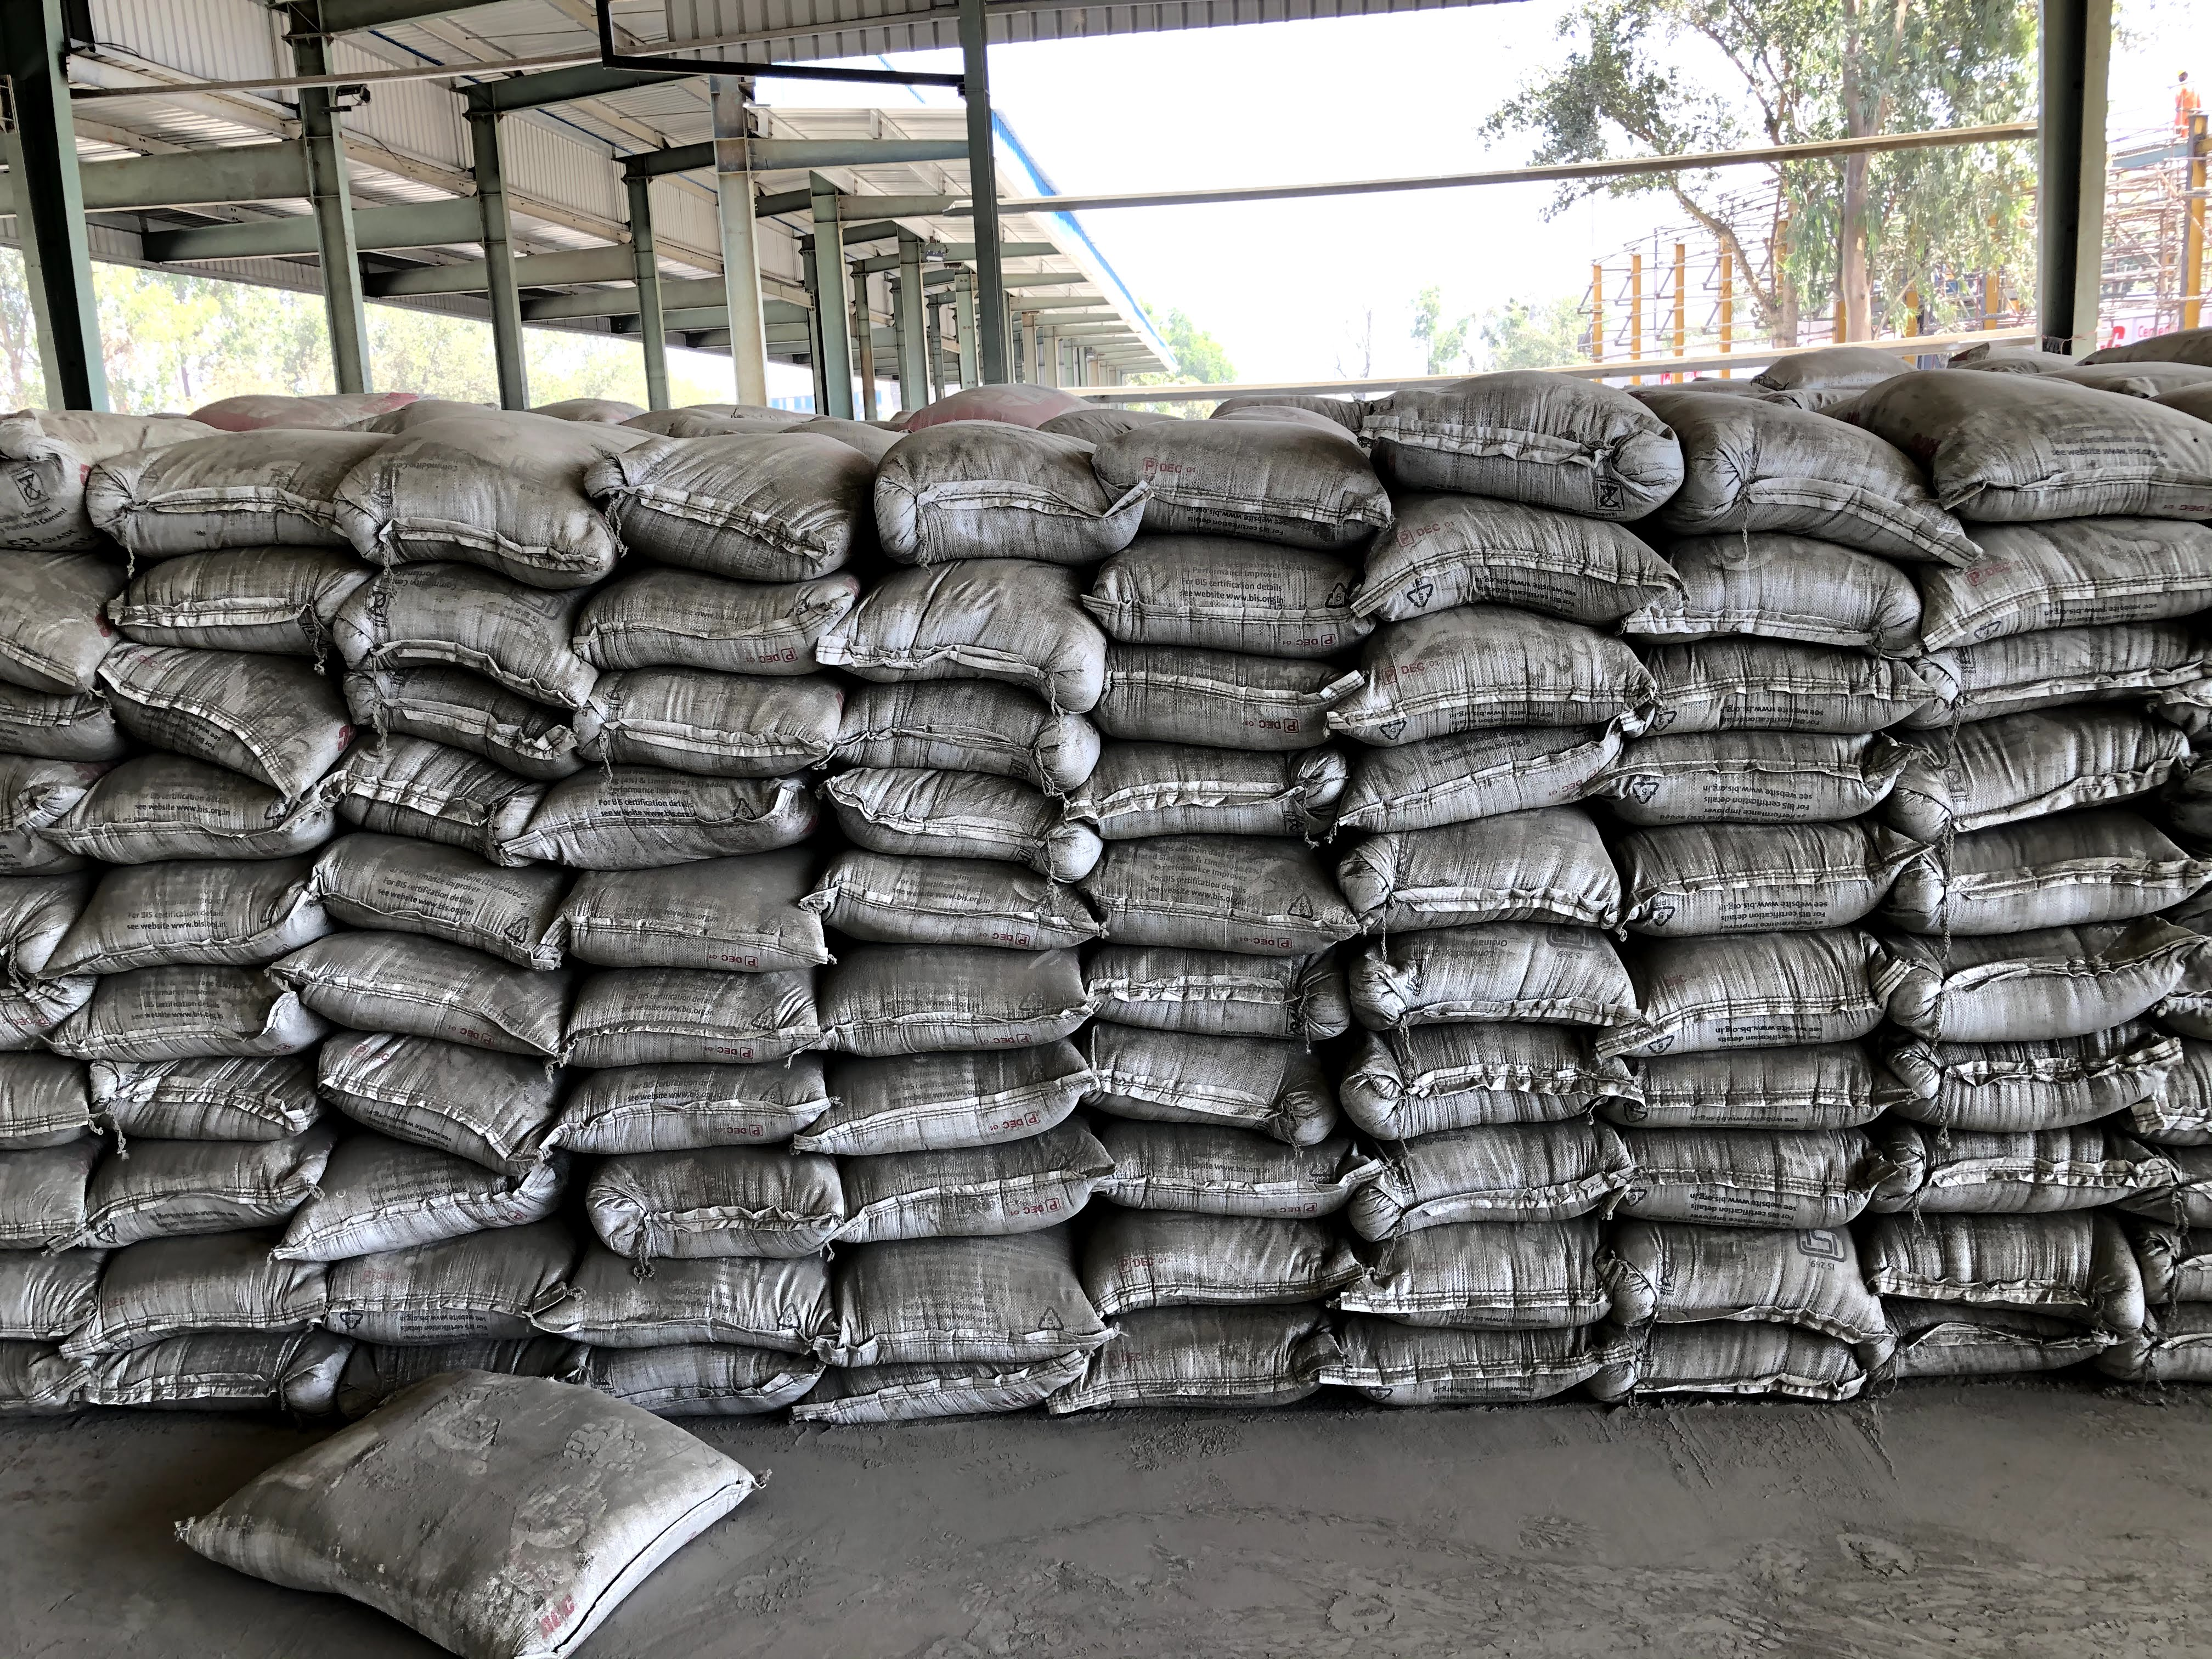cement bag: (212, 1443, 752, 1615), (1648, 408, 1977, 579), (1348, 401, 1658, 547), (1082, 1108, 1372, 1239), (366, 444, 580, 613), (1900, 1124, 2186, 1249), (1947, 408, 2212, 537), (836, 1147, 1109, 1263), (862, 446, 1148, 556), (1109, 537, 1352, 666), (98, 455, 355, 575), (1329, 547, 1658, 641), (1695, 908, 1909, 1051), (63, 847, 307, 972), (613, 451, 850, 580), (1919, 828, 2174, 946), (803, 965, 1075, 1075), (1329, 641, 1611, 746), (836, 1263, 1122, 1366), (1656, 718, 1888, 843), (1366, 1230, 1609, 1349), (1348, 746, 1611, 856), (836, 680, 1076, 798), (134, 655, 331, 800), (559, 770, 798, 889), (597, 660, 833, 779), (1963, 523, 2212, 633), (1148, 444, 1385, 556), (1353, 1039, 1611, 1140), (1109, 1290, 1327, 1406), (561, 1061, 803, 1166), (314, 1157, 566, 1256), (1649, 1239, 1886, 1344), (1629, 1138, 1872, 1239), (1348, 856, 1620, 946), (1353, 946, 1620, 1039), (308, 1023, 528, 1134), (1900, 1037, 2172, 1124), (1094, 823, 1308, 932), (547, 971, 803, 1061), (1919, 946, 2172, 1037), (561, 1166, 831, 1249), (1630, 1344, 1886, 1431), (1366, 1140, 1611, 1230), (836, 850, 1076, 943), (1094, 932, 1296, 1042), (803, 1075, 1109, 1147), (350, 842, 545, 953), (570, 580, 850, 657), (564, 1249, 831, 1330), (1895, 1321, 2179, 1396), (1940, 737, 2174, 828), (1676, 570, 1888, 669), (547, 889, 798, 971), (894, 579, 1101, 674), (1085, 735, 1308, 823), (106, 1077, 317, 1166), (1085, 666, 1352, 735), (564, 1330, 803, 1406), (1599, 1051, 1909, 1108), (134, 575, 355, 655), (87, 1000, 317, 1077), (106, 1166, 294, 1258), (1939, 660, 2212, 721), (308, 953, 545, 1023), (1327, 1349, 1609, 1406), (101, 1335, 327, 1401), (101, 1258, 294, 1335), (350, 1276, 578, 1338), (1082, 1042, 1296, 1108), (1109, 1239, 1372, 1290), (803, 1366, 1122, 1406), (63, 800, 331, 847), (836, 798, 1076, 850), (397, 669, 502, 786), (1656, 669, 1888, 718), (397, 613, 580, 669), (350, 786, 502, 842), (1895, 1272, 1930, 1321), (1658, 579, 1676, 598), (1686, 908, 1695, 913)
